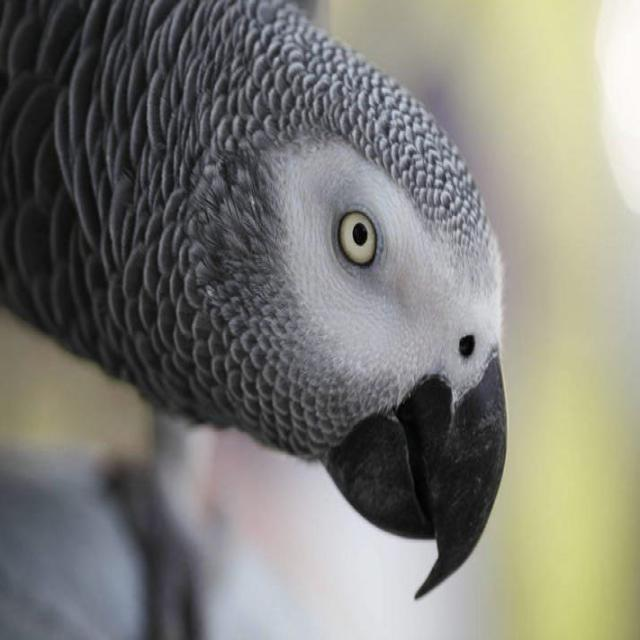parrot: (1, 0, 507, 595)
